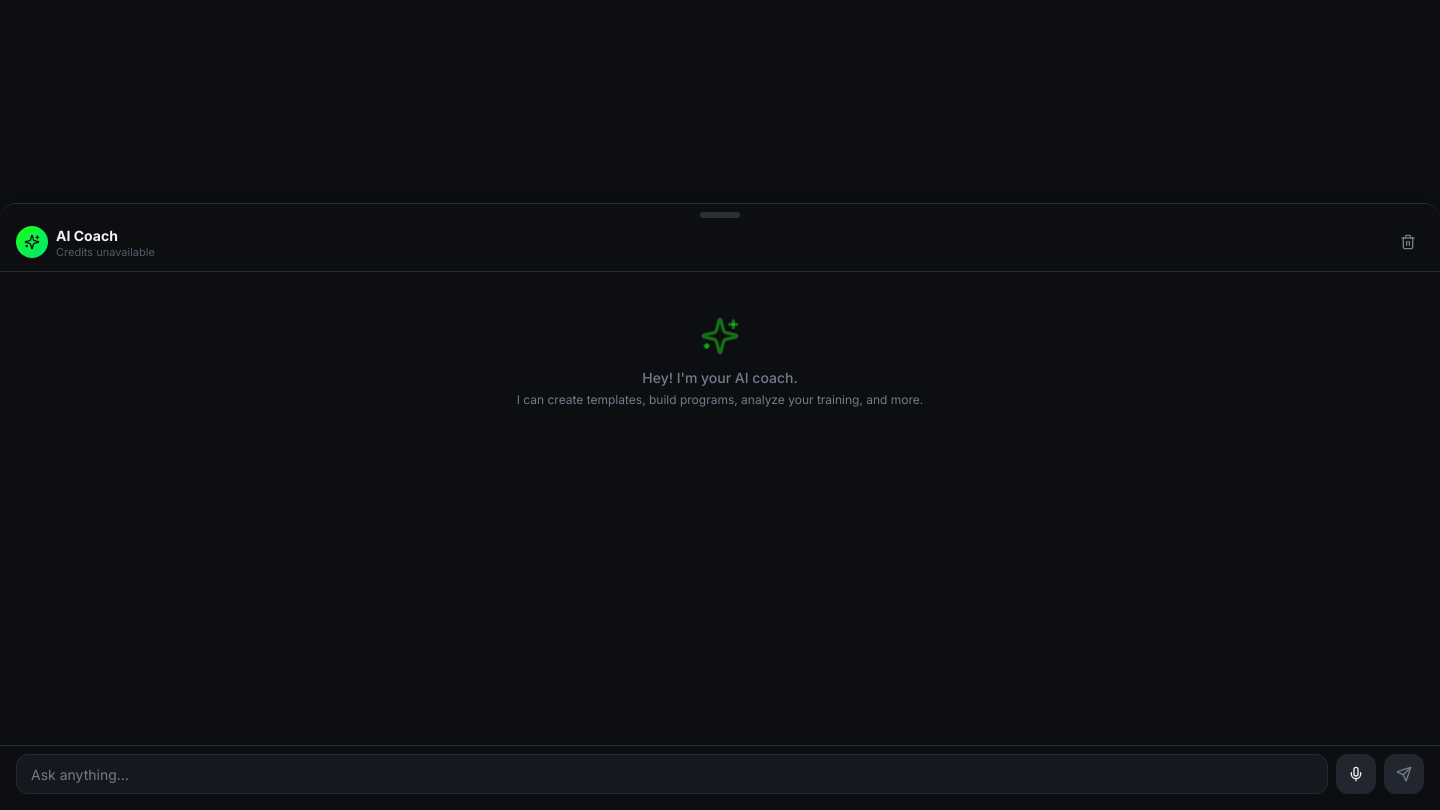
AI coach voice input › speaks after what was already typed
This screenshot has width=1440, height=810.
Type "for tomorrow" into the text box at (672, 774), box left=16, top=754, right=1328, bottom=794
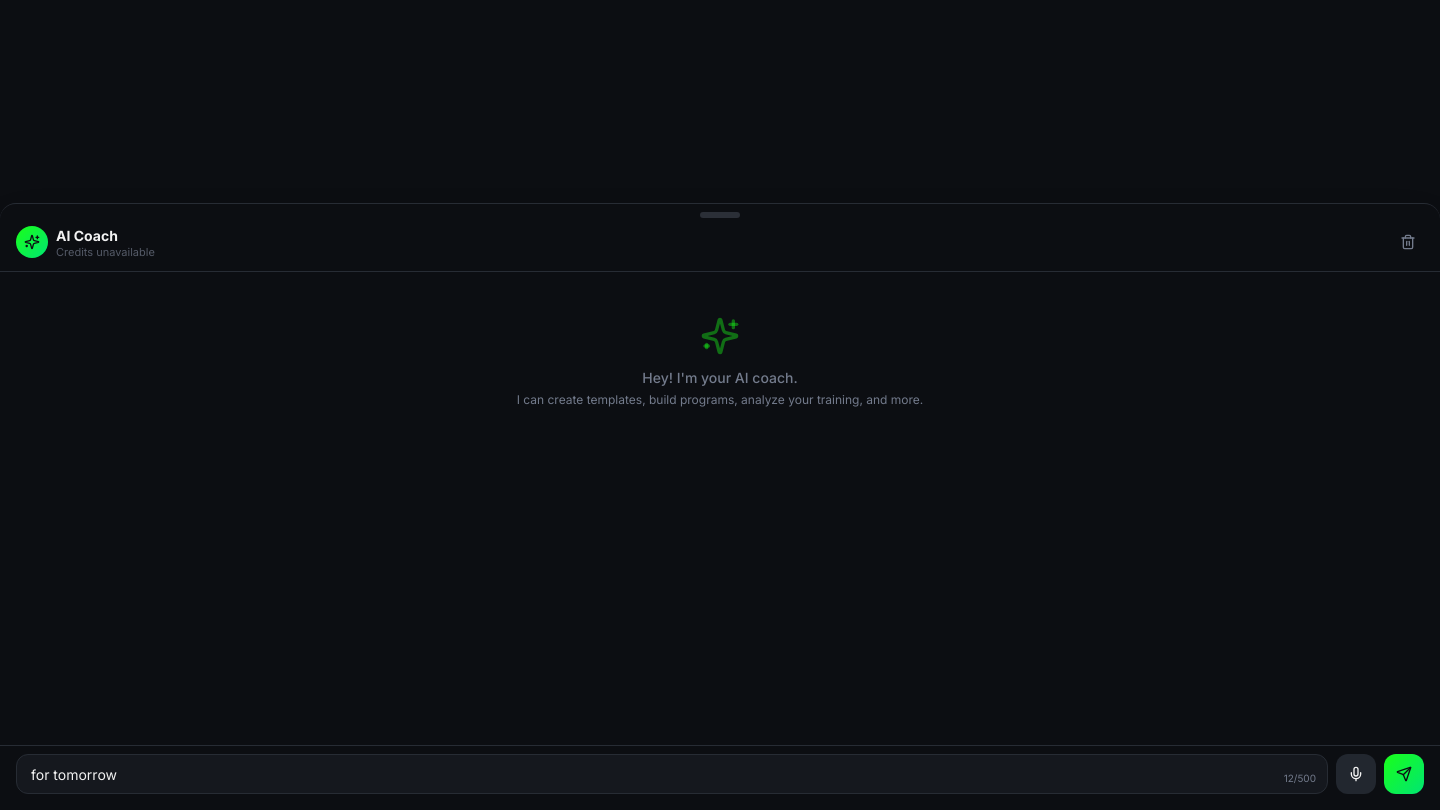
Click the button named "Start voice input" at (1356, 774), box left=1336, top=754, right=1376, bottom=794
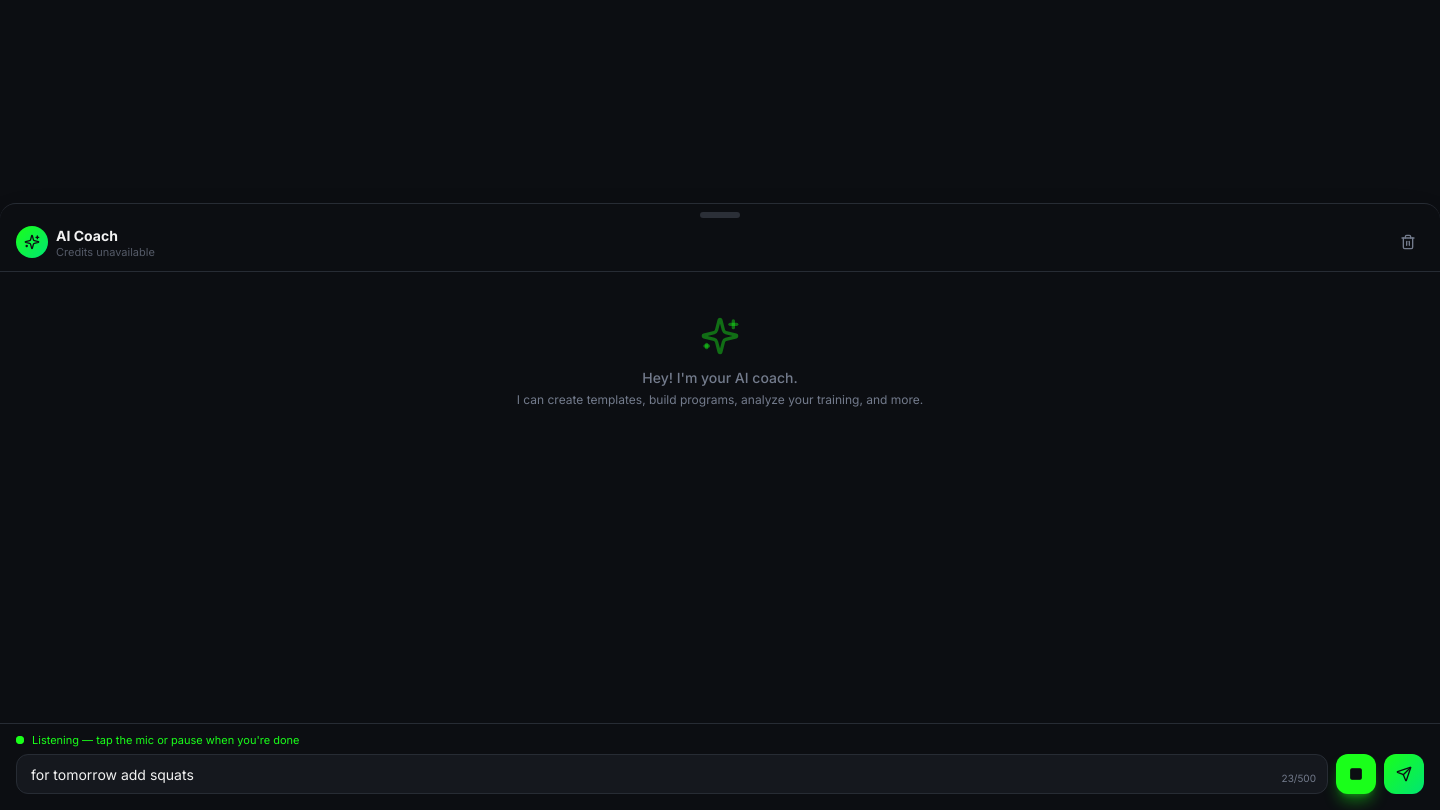
Expected: the text box holds "for tomorrow add squats", left=16, top=754, right=1328, bottom=794
